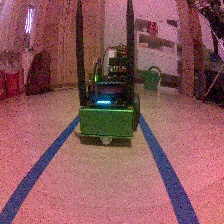rob: (77, 56, 140, 146)
